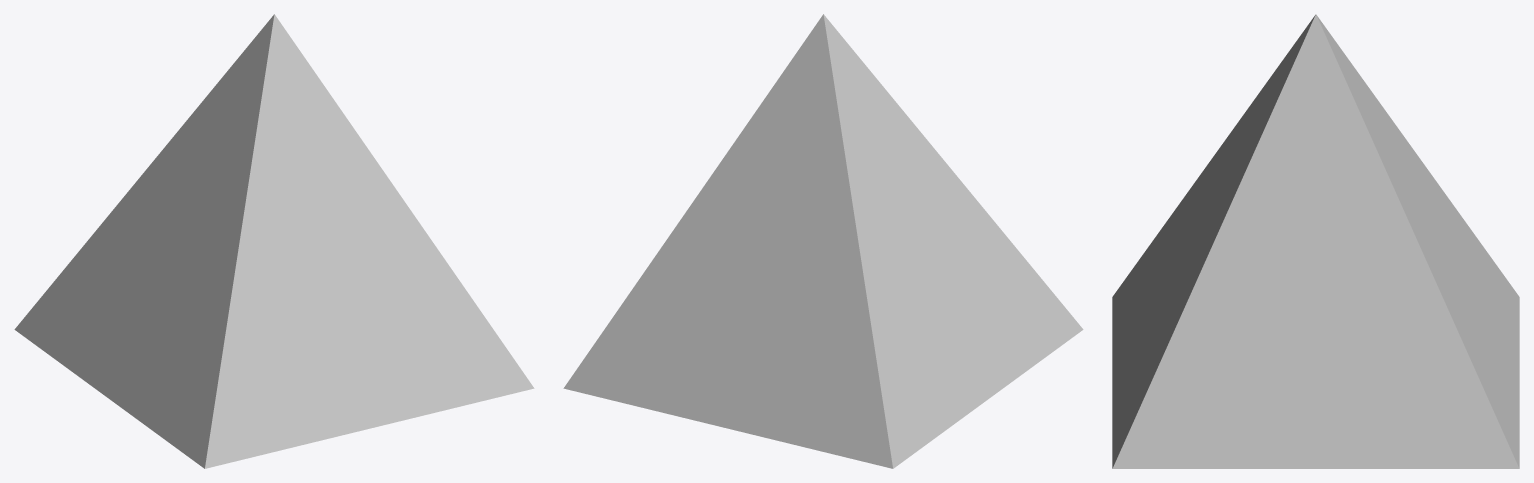
Rendered from niddle.obj.
3 views of the same model, side by side, from view 1: azimuth 30°, elevation 25°; view 2: azimuth 150°, elevation 25°; view 3: azimuth 270°, elevation 25° (orthographic). The views are drawn at different scales.
Visible parts, largest first — view 1: Cube; view 2: Cube; view 3: Cube.
Boxes of the visible parts, x1,y1,x2,y2 form: Cube: (14,14,534,468); Cube: (563,14,1083,468); Cube: (1112,14,1519,468).
Bounding box in the file's own units: 2 × 2 × 2.
1 material, 1 textured.
